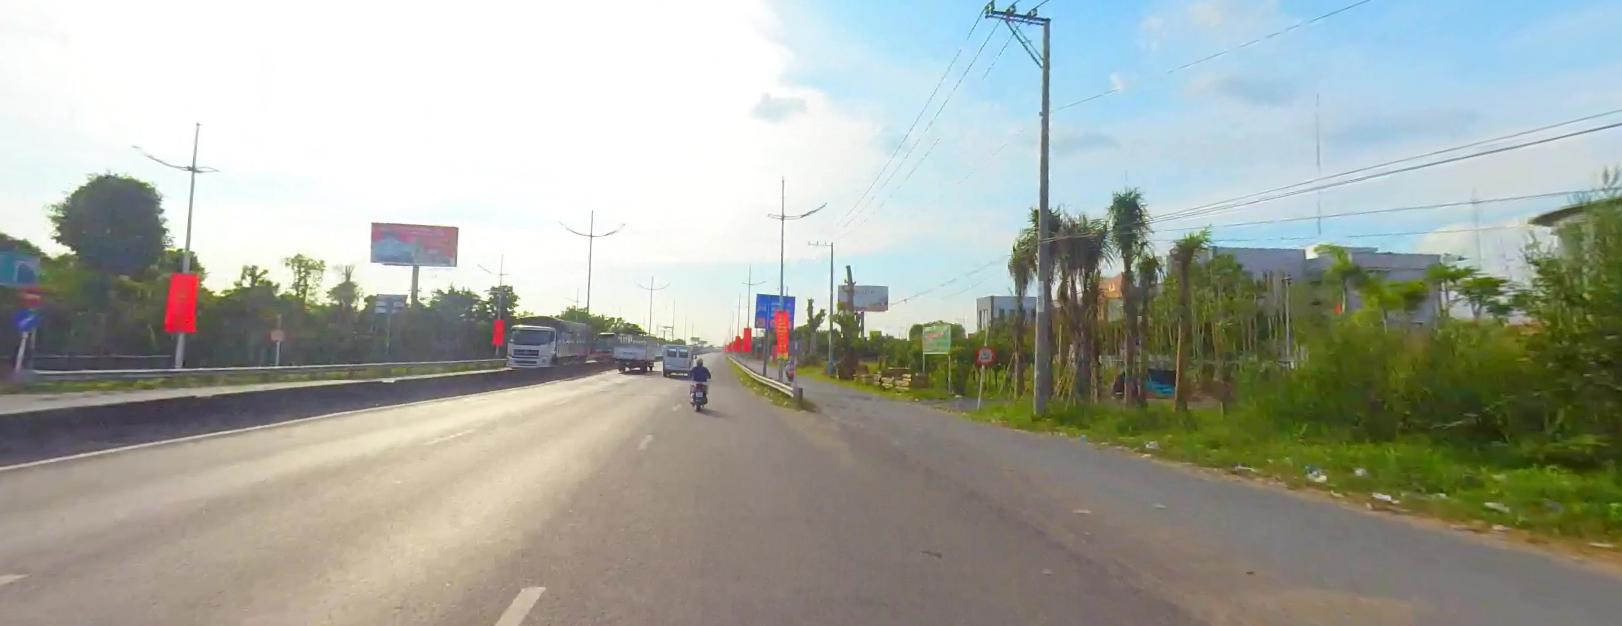Cam con lai: (975, 345, 994, 364)
Cam nguoc chieu: (20, 284, 44, 306)
Gioi han toc do: (755, 316, 764, 325), (768, 316, 777, 325)
Hieu lenh: (13, 308, 38, 330)
